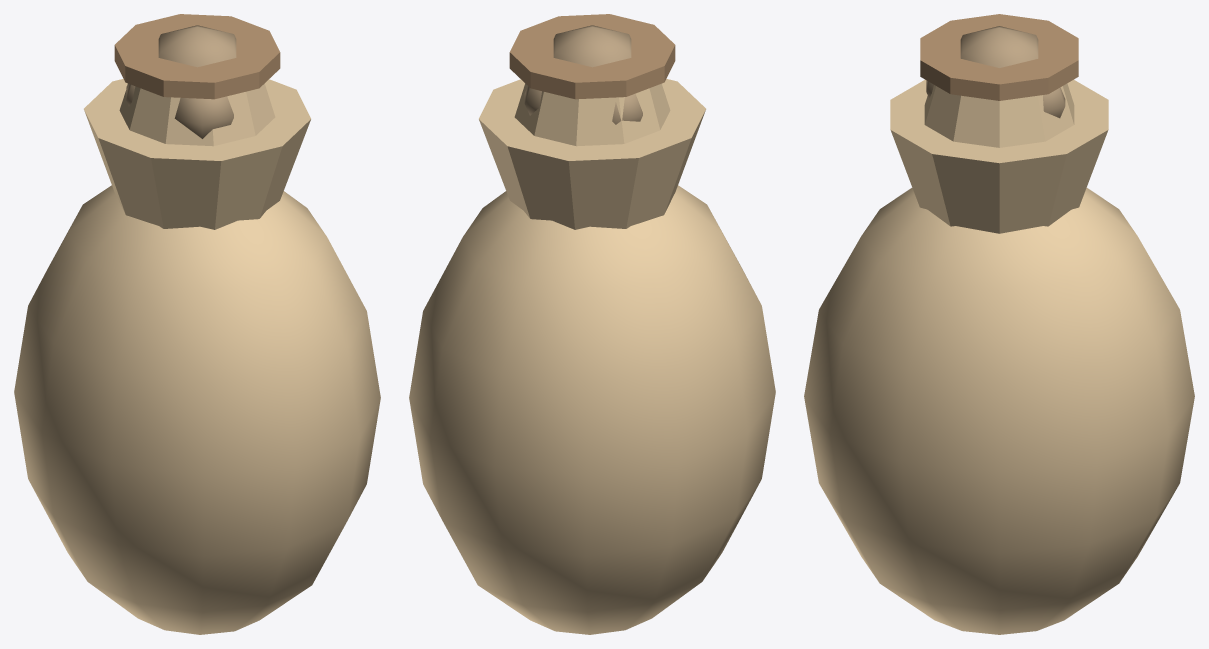
The model's file is tool_fert.fbx.
3 views of the same model, side by side, from view 1: azimuth 30°, elevation 25°; view 2: azimuth 150°, elevation 25°; view 3: azimuth 270°, elevation 25° (orthographic).
Visible parts, largest first — view 1: TOOL_fert; view 2: TOOL_fert; view 3: TOOL_fert.
Part boxes in pixels (x1=…): TOOL_fert: x1=14, y1=14, x2=380, y2=634; TOOL_fert: x1=409, y1=14, x2=775, y2=634; TOOL_fert: x1=804, y1=14, x2=1194, y2=634.
Bounding box in the file's own units: 27.6 × 50.4 × 30.
